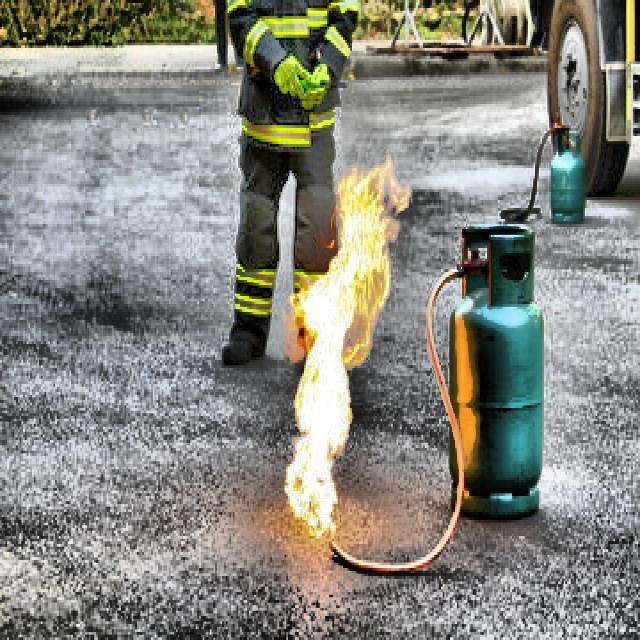Fire: (288, 152, 412, 537)
